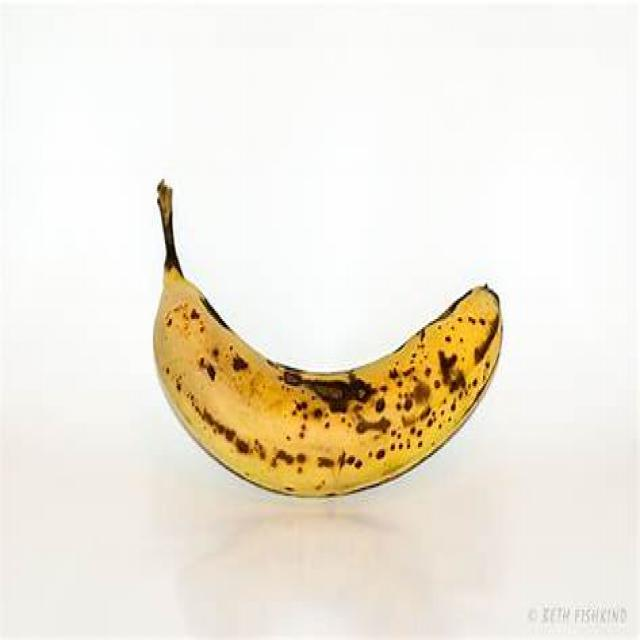Banana: (146, 178, 505, 503)
